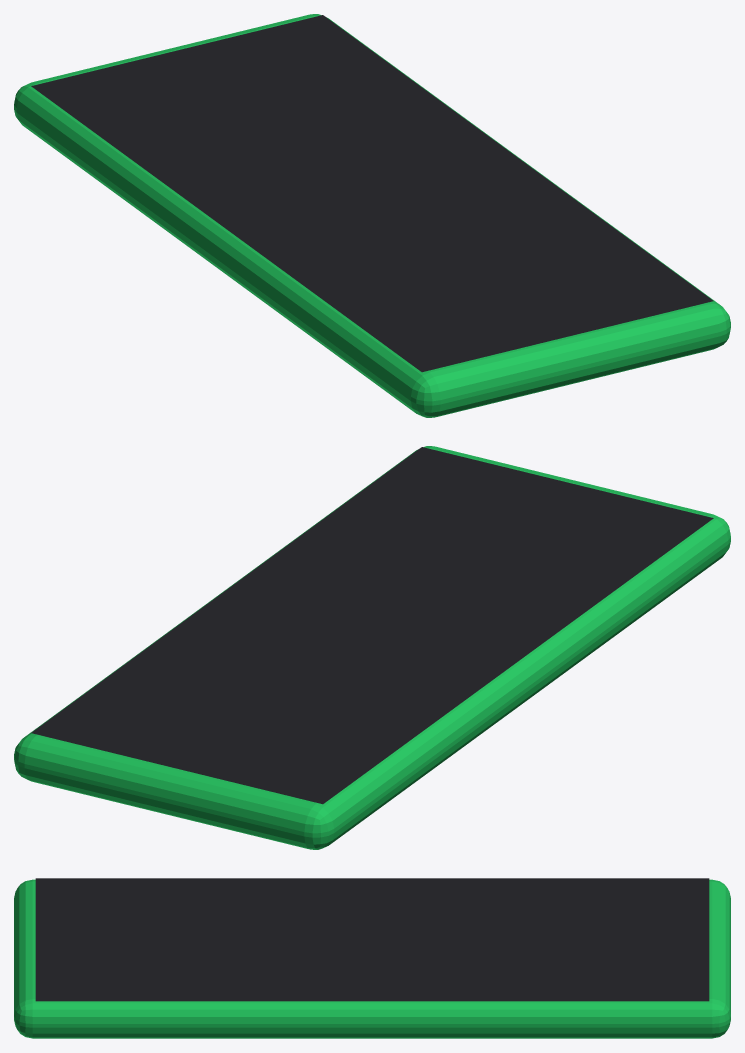
Rendered from tecno-camon-model-413-mid-range-2026.glb.
The picture shows the model from 3 angles, top to bottom: view 1: azimuth 30°, elevation 25°; view 2: azimuth 150°, elevation 25°; view 3: azimuth 270°, elevation 25°; orthographic projection. The views are drawn at different scales.
Parts seen in each view (by area): view 1: Phone_Screen, Phone_Body; view 2: Phone_Screen, Phone_Body; view 3: Phone_Screen, Phone_Body.
Part boxes in pixels (<box>): Phone_Screen: <box>31,15,713,372</box>; Phone_Body: <box>14,14,730,417</box>; Phone_Screen: <box>31,447,713,804</box>; Phone_Body: <box>14,446,730,849</box>; Phone_Screen: <box>35,878,709,1001</box>; Phone_Body: <box>14,879,730,1038</box>.
Bounding box in the file's own units: 0.0713 × 0.0095 × 0.1618.
